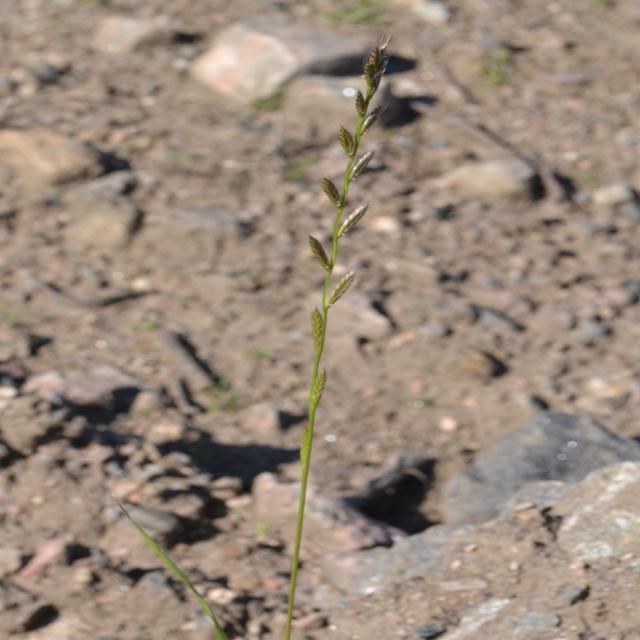Lolium: (279, 32, 399, 638)
